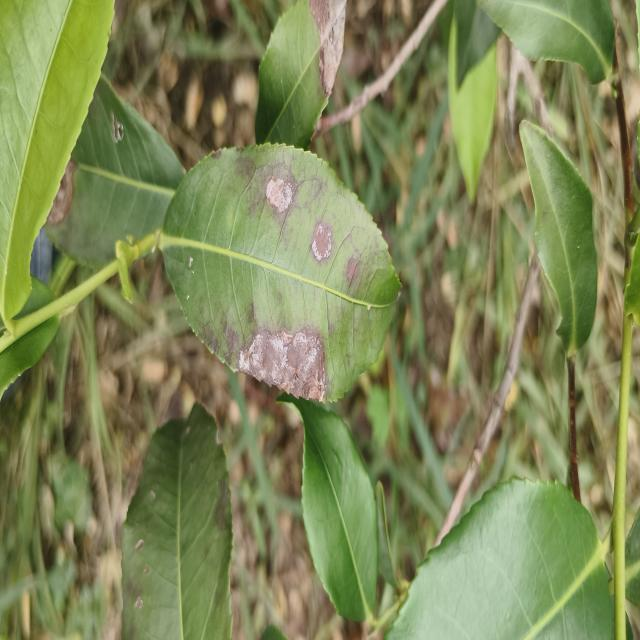Leaf: (159, 144, 400, 401), (0, 0, 114, 323), (386, 478, 612, 640), (122, 404, 232, 640), (47, 76, 184, 265), (278, 394, 378, 620), (519, 121, 597, 357), (255, 0, 346, 148), (477, 0, 614, 83), (448, 18, 497, 202), (454, 0, 500, 88)
